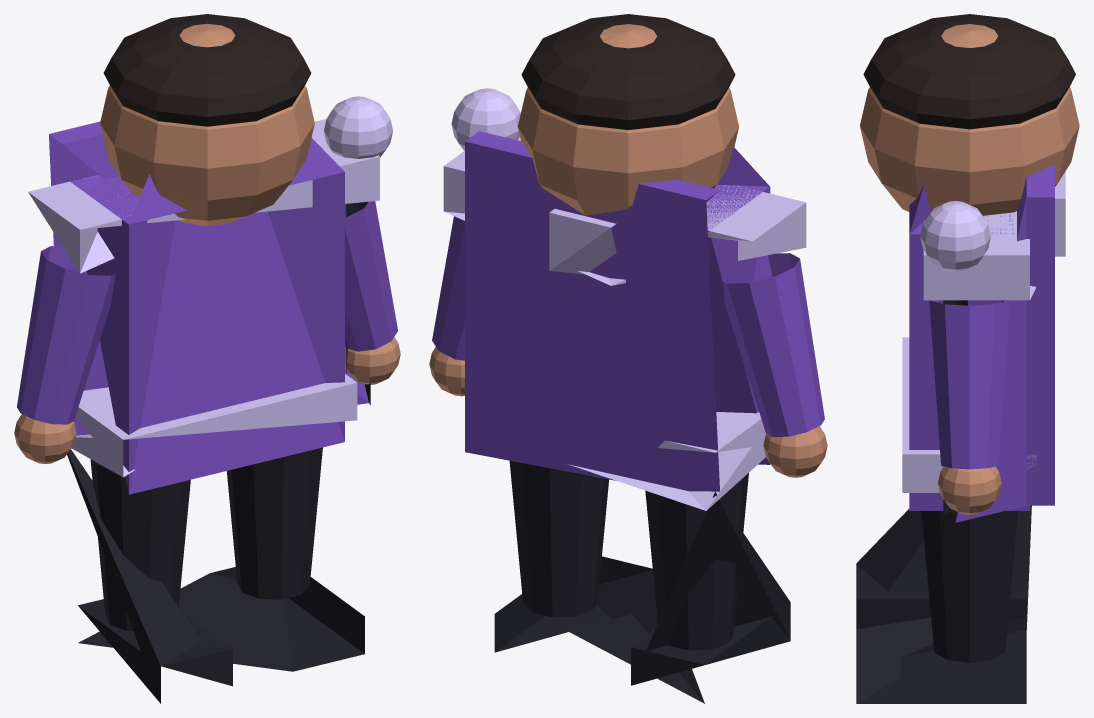
Rendered from Mage_Male.obj.
3 renders of one model, left to right at view 1: azimuth 30°, elevation 25°; view 2: azimuth 150°, elevation 25°; view 3: azimuth 270°, elevation 25°, orthographic. The views are drawn at different scales.
Parts seen in each view (by area): view 1: Mage_Male; view 2: Mage_Male; view 3: Mage_Male.
Part boxes in pixels (<box>): Mage_Male: <box>14,14,400,703</box>; Mage_Male: <box>429,14,827,703</box>; Mage_Male: <box>856,14,1079,703</box>.
Size of the model in its own units: 1.26 by 1.93 by 0.63.
